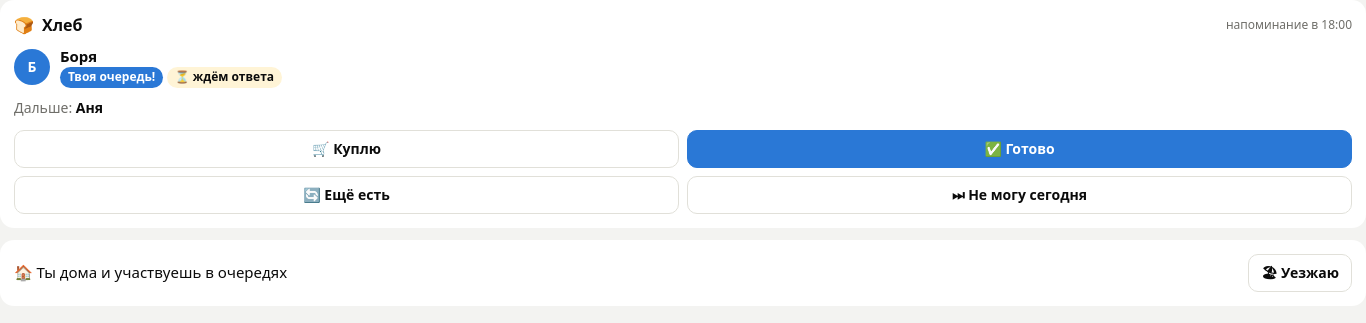
queue actions › sends a double tap once
Click the button "🛒 Куплю".
click(346, 149)  # box [14,130,679,168]
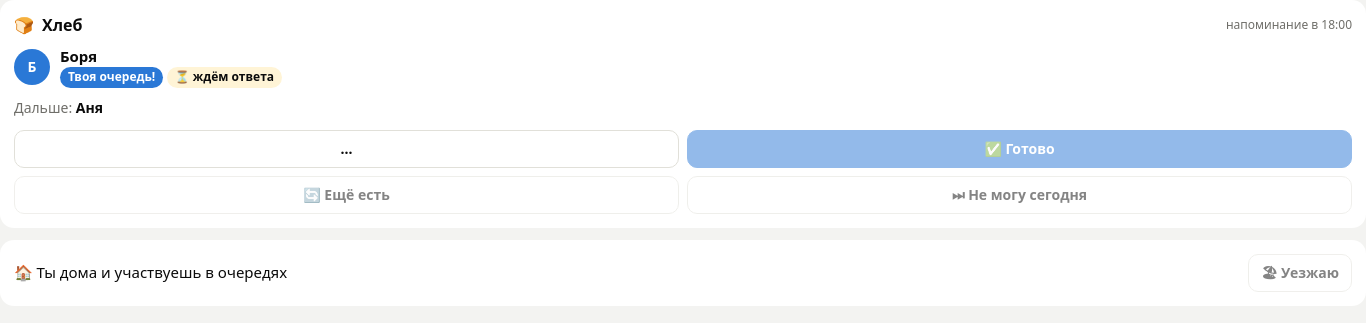
Click the button "🛒 Куплю".
click(346, 149)  # box [14,130,679,168]
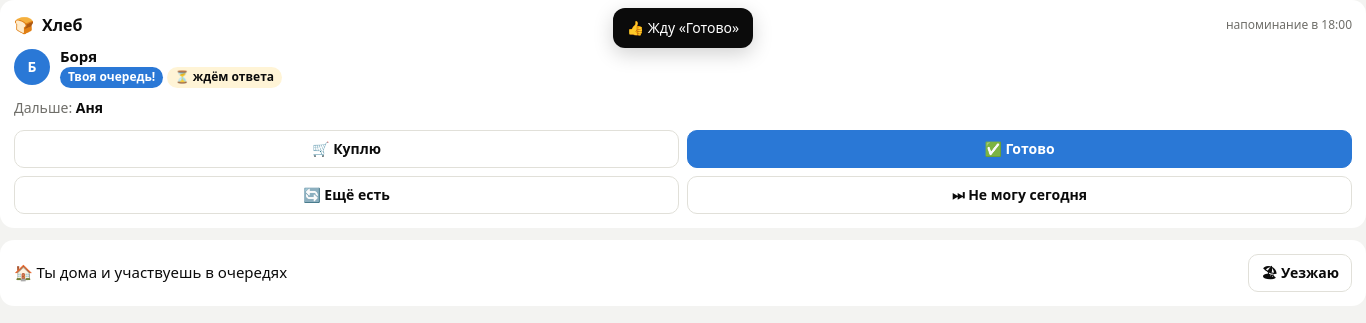
Check: the button "👍 Жду «Готово»" is shown, box [613,8,753,48]
